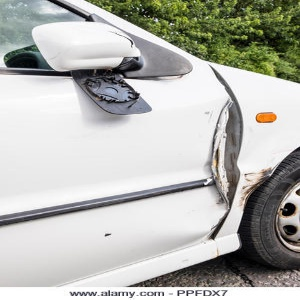door: (191, 93, 243, 251)
side_mirror: (29, 18, 157, 117)
